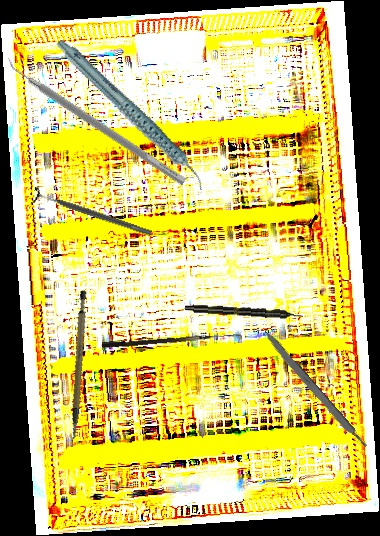Fixation Ring: (29, 185, 155, 243)
Handpiece: (54, 16, 207, 215), (184, 302, 304, 322)
Hook Surgical: (101, 327, 242, 351)
Scalpel Handle: (260, 328, 369, 452), (47, 289, 107, 442)
Spatula Surgical: (1, 53, 192, 187)
